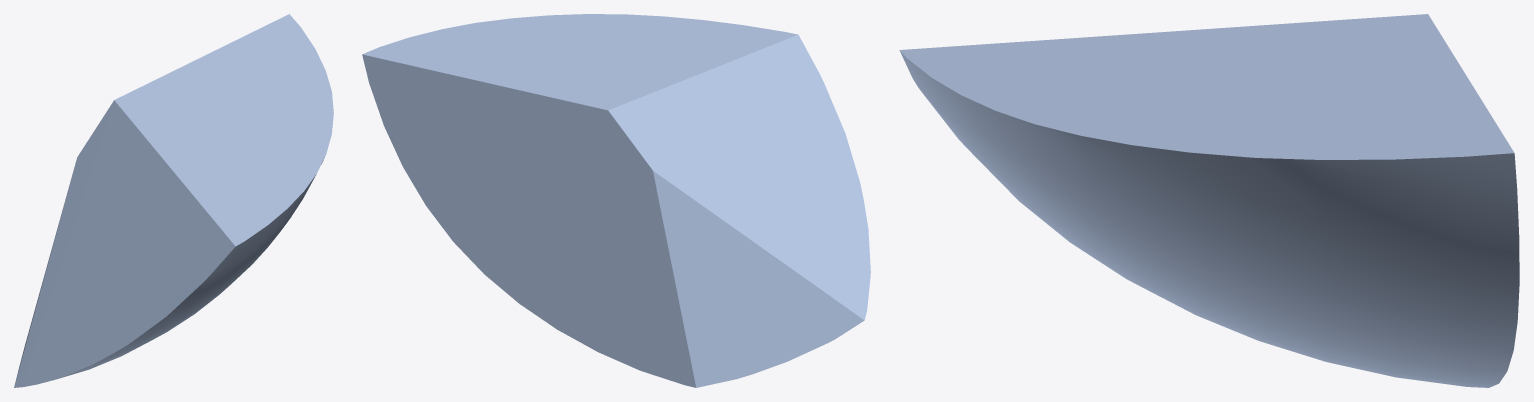
File: Ball1_4.fbx
The picture shows the model from 3 angles, left to right: view 1: azimuth 30°, elevation 25°; view 2: azimuth 150°, elevation 25°; view 3: azimuth 270°, elevation 25°; orthographic projection. The views are drawn at different scales.
Visible parts, largest first — view 1: Cube_cell.075; view 2: Cube_cell.075; view 3: Cube_cell.075.
Boxes of the visible parts, x1=… form: Cube_cell.075: x1=14, y1=14, x2=333, y2=387; Cube_cell.075: x1=362, y1=14, x2=870, y2=387; Cube_cell.075: x1=899, y1=14, x2=1519, y2=387.
Bounding box in the file's own units: 83.53 × 54.06 × 68.26.
